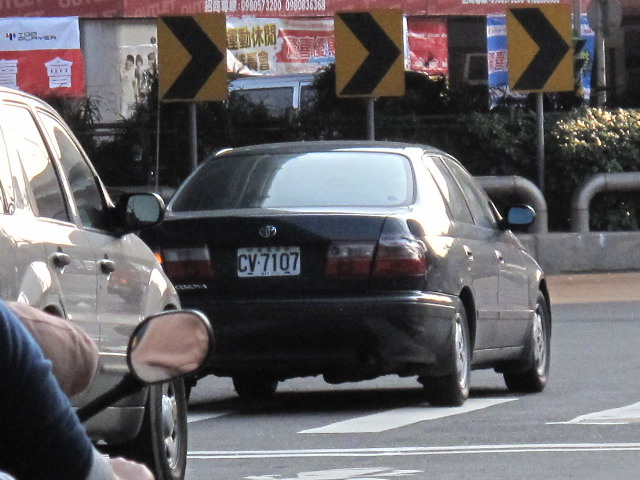plate: (234, 244, 306, 278)
